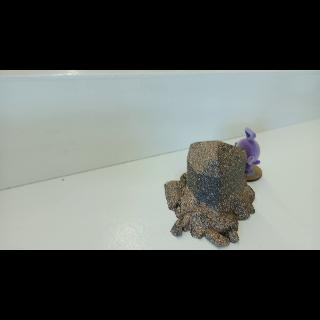teletubby: (235, 128, 260, 176)
